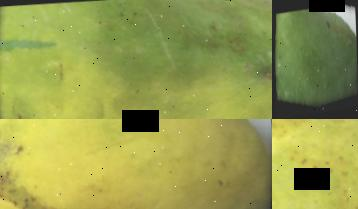PartiallyRipe: (0, 0, 272, 119), (272, 119, 358, 209)
Ripe: (0, 119, 272, 209)
Unripe: (272, 0, 358, 119)
